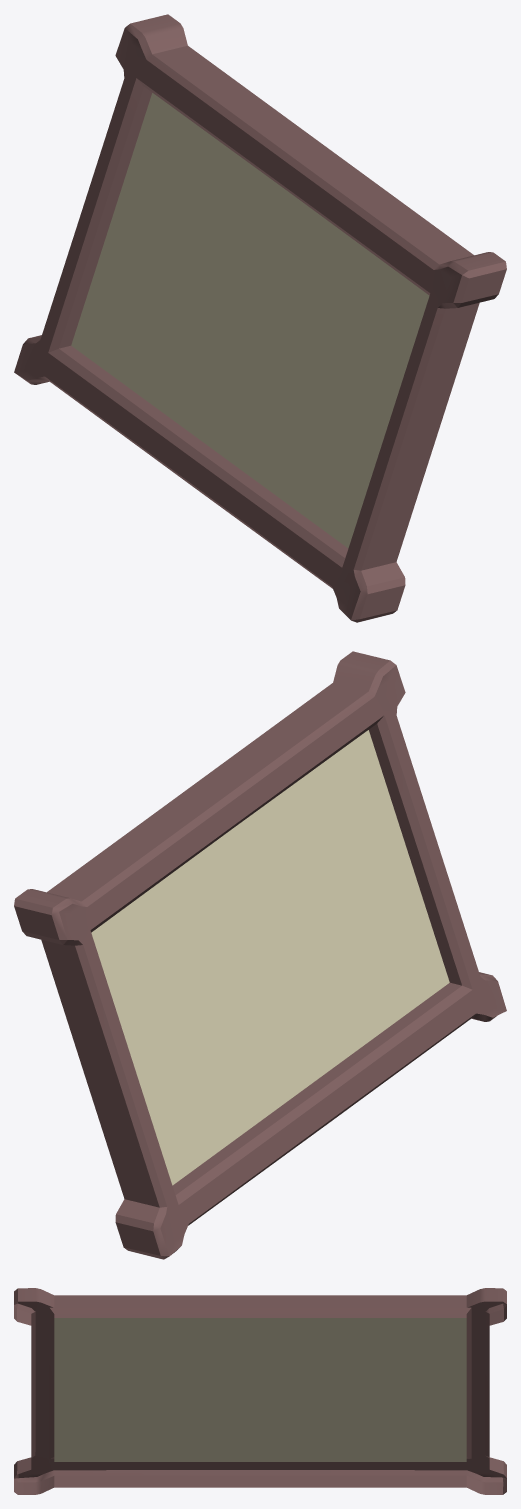
Rendered from SM_Painting01_003.fbx.
The picture shows the model from 3 angles, top to bottom: view 1: azimuth 30°, elevation 25°; view 2: azimuth 150°, elevation 25°; view 3: azimuth 270°, elevation 25°; orthographic projection. The views are drawn at different scales.
Visible parts, largest first — view 1: Painting1; view 2: Painting1; view 3: Painting1.
Boxes of the visible parts, left/top/right/bottom form: Painting1: left=14, top=14, right=506, bottom=622; Painting1: left=14, top=651, right=506, bottom=1259; Painting1: left=14, top=1288, right=506, bottom=1494.
Size of the model in its own units: 18.13 by 36.38 by 69.75.
